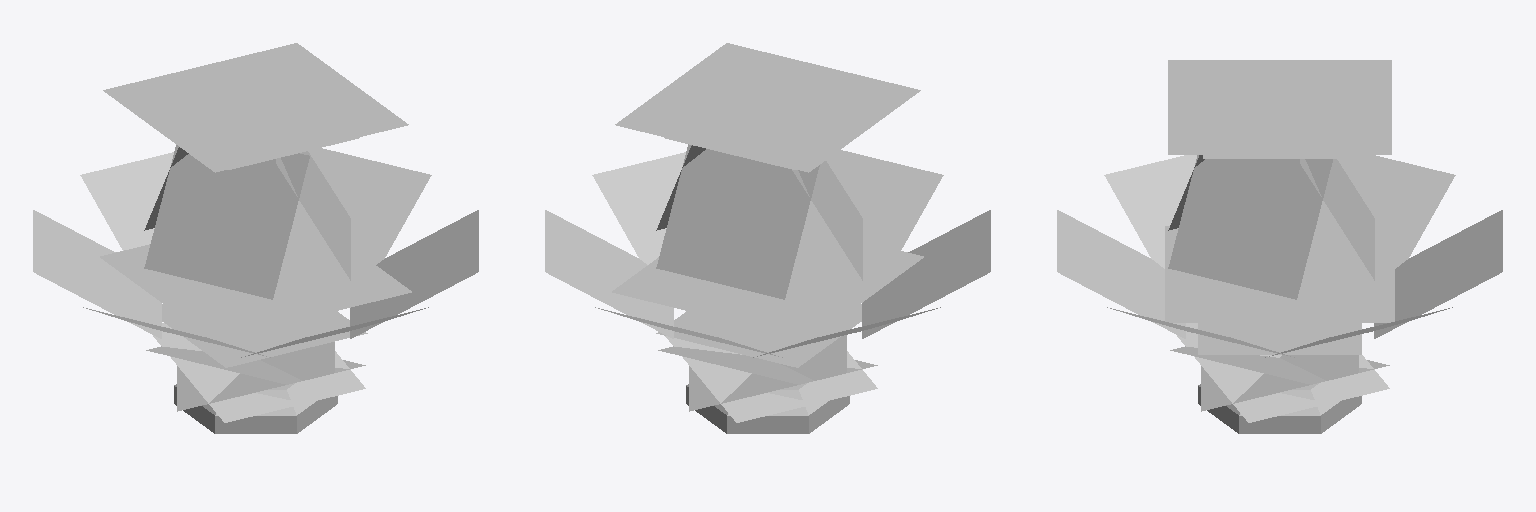
Rendered from celestial_lotus_engine.obj.
3 renders of one model, left to right at view 1: azimuth 30°, elevation 25°; view 2: azimuth 150°, elevation 25°; view 3: azimuth 270°, elevation 25°, orthographic.
Visible parts, largest first — view 1: Ring_Simple_03, Petal_Lv2_03, Ring_Complex_02, Petal_Lv1_02_Untitled, Petal_Lv1_06, Petal_Lv1_03, Petal_Lv1_01, Ring_Simple_01a, Ring_Complex_01, Ring_Simple_01b, Base, Petal_Lv2_02 (+3 smaller); view 2: Ring_Simple_03, Petal_Lv2_01, Ring_Complex_02, Petal_Lv1_04, Petal_Lv1_05, Petal_Lv1_02_Untitled, Petal_Lv1_03, Ring_Simple_01b, Ring_Complex_01, Base, Ring_Simple_01c_Plane.002, Petal_Lv2_03 (+3 smaller); view 3: Ring_Simple_03, Petal_Lv2_02, Ring_Complex_02, Petal_Lv1_01, Petal_Lv1_04, Petal_Lv1_06, Petal_Lv1_05, Ring_Complex_01, Ring_Simple_01c_Plane.002, Base, Petal_Lv2_01, Ring_Simple_01a (+4 smaller).
Boxes of the visible parts, box(x1,y1,x2,y2) form: Ring_Simple_03: box(103, 43, 408, 172); Petal_Lv2_03: box(144, 145, 309, 299); Ring_Complex_02: box(100, 208, 411, 339); Petal_Lv1_02_Untitled: box(297, 148, 431, 264); Petal_Lv1_06: box(33, 210, 161, 338); Petal_Lv1_03: box(350, 210, 478, 338); Petal_Lv1_01: box(80, 152, 173, 250); Ring_Simple_01a: box(153, 323, 365, 422); Ring_Complex_01: box(162, 304, 367, 367); Ring_Simple_01b: box(177, 342, 334, 411); Base: box(174, 381, 337, 433); Petal_Lv2_02: box(276, 151, 350, 280); Ring_Simple_03: box(615, 43, 920, 172); Petal_Lv2_01: box(656, 144, 819, 299); Ring_Complex_02: box(612, 227, 923, 339); Petal_Lv1_04: box(804, 150, 943, 250); Petal_Lv1_05: box(862, 210, 990, 338); Petal_Lv1_02_Untitled: box(545, 210, 673, 338); Petal_Lv1_03: box(592, 152, 685, 264); Ring_Simple_01b: box(665, 336, 877, 422); Ring_Complex_01: box(656, 304, 861, 367); Base: box(686, 381, 849, 433); Ring_Simple_01c_Plane.002: box(689, 335, 846, 411); Petal_Lv2_03: box(792, 161, 862, 280); Ring_Simple_03: box(1168, 60, 1391, 154); Petal_Lv2_02: box(1168, 155, 1332, 299); Ring_Complex_02: box(1165, 226, 1394, 322); Petal_Lv1_01: box(1374, 210, 1502, 338); Petal_Lv1_04: box(1057, 210, 1185, 338); Petal_Lv1_06: box(1316, 155, 1455, 268); Petal_Lv1_05: box(1104, 155, 1196, 268); Ring_Complex_01: box(1198, 323, 1361, 354); Ring_Simple_01c_Plane.002: box(1177, 323, 1389, 422); Base: box(1198, 381, 1361, 433); Petal_Lv2_01: box(1300, 159, 1374, 280); Ring_Simple_01a: box(1201, 355, 1358, 411).
Bounding box in the file's own units: 4.3 × 3.05 × 4.16.